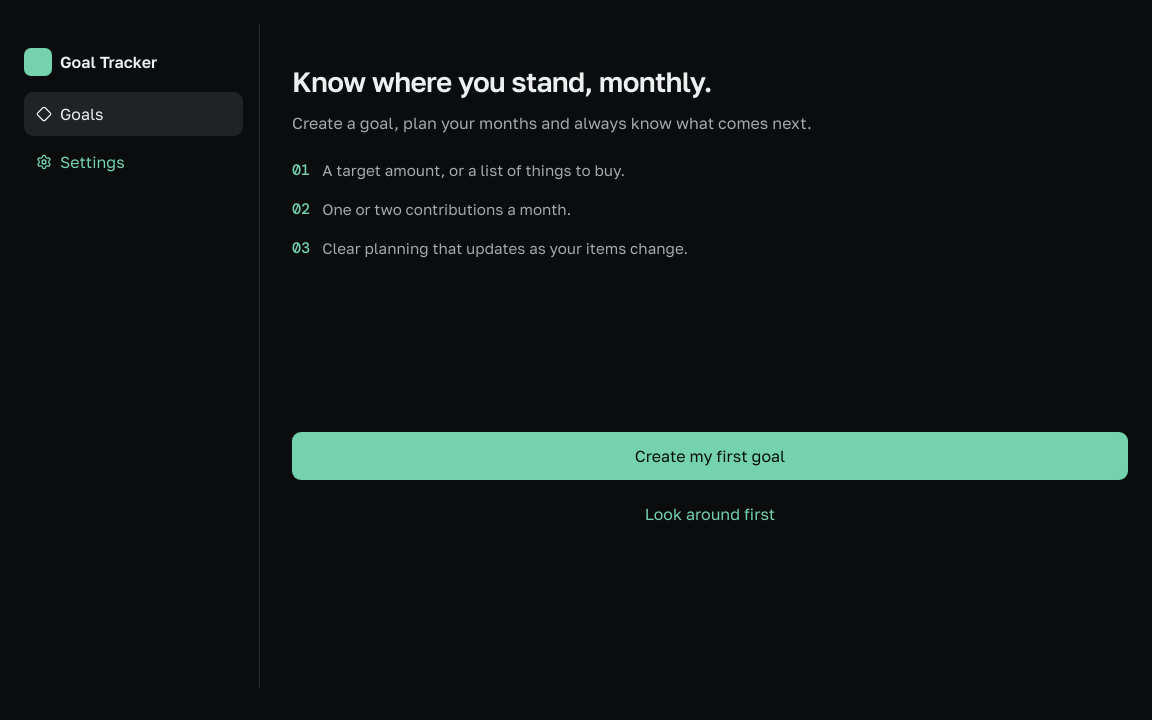
Test: M2 goals web flows › navigates authenticated users to settings from the shell
What coordinates should you click on to do the following:
click the button "Look around first"
I would click on:
 (710, 514)
Its box is [292, 492, 1128, 536].
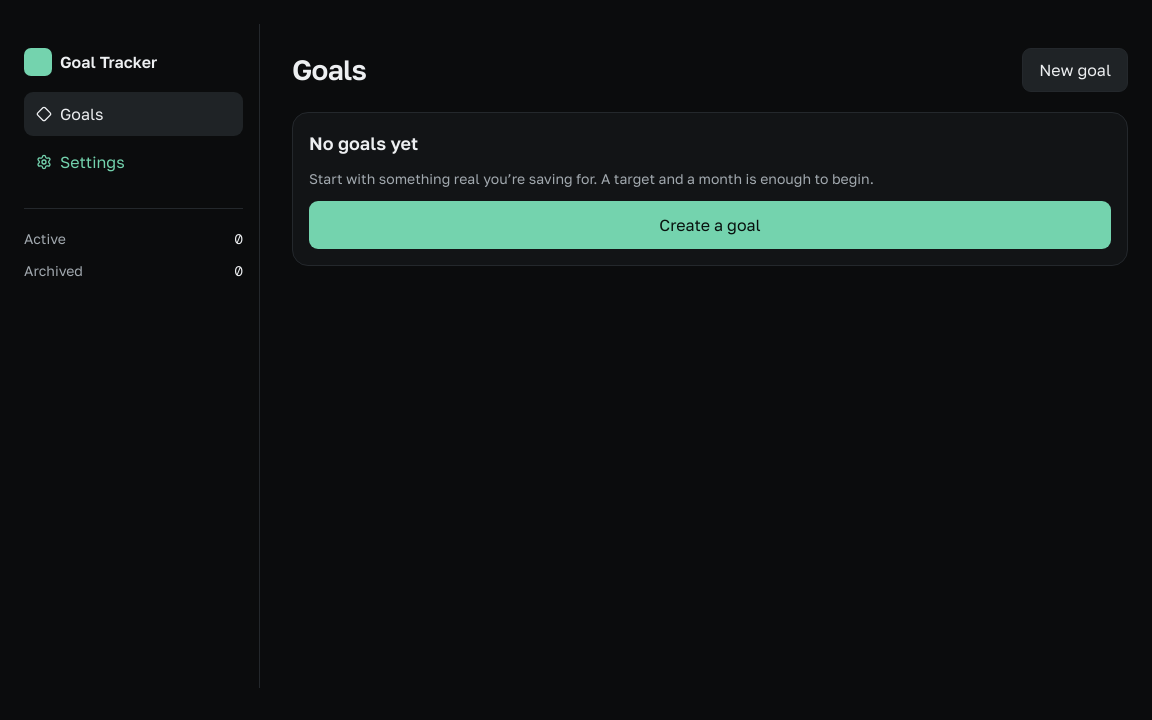
What coordinates should you click on to do the following:
click the button "Settings"
I would click on:
 (134, 162)
Its box is [24, 140, 243, 184].
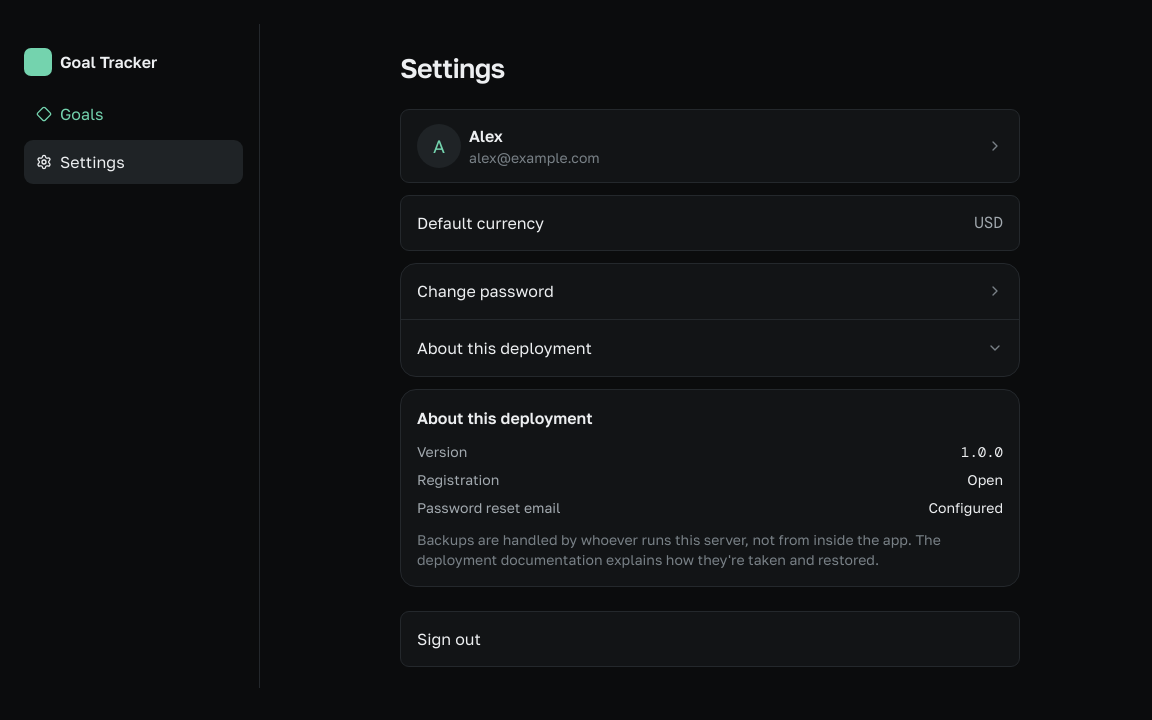
Result: the heading "Settings" is shown at [400, 52, 505, 84]
